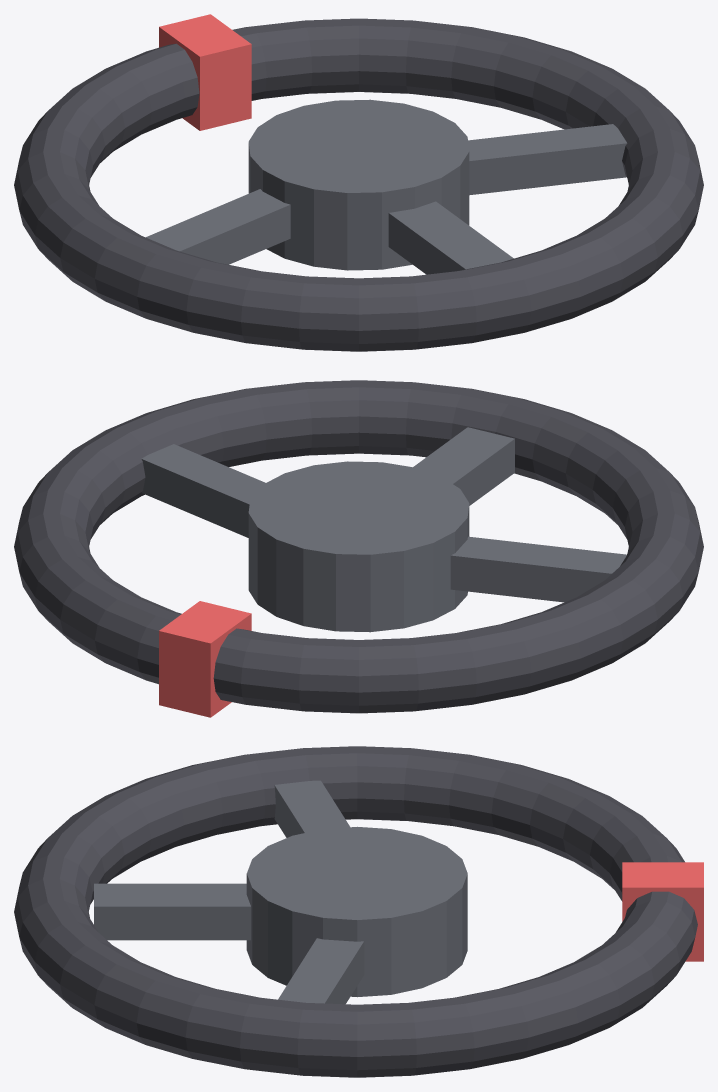
File: steering_wheel.glb
3 views of the same model, one above another, from view 1: azimuth 30°, elevation 25°; view 2: azimuth 150°, elevation 25°; view 3: azimuth 270°, elevation 25° (orthographic).
Visible parts, largest first — view 1: WheelRim, CenterHub, SpokeRight, TopMarker, SpokeLeft, SpokeBottom; view 2: WheelRim, CenterHub, SpokeLeft, TopMarker, SpokeRight, SpokeBottom; view 3: WheelRim, CenterHub, SpokeBottom, SpokeRight, TopMarker, SpokeLeft.
Part boxes in pixels (x1=…): WheelRim: x1=14, y1=18, x2=703, y2=351; CenterHub: x1=248, y1=99, x2=469, y2=270; SpokeRight: x1=468, y1=124, x2=627, y2=195; TopMarker: x1=159, y1=14, x2=251, y2=130; SpokeLeft: x1=146, y1=189, x2=290, y2=264; SpokeBottom: x1=388, y1=201, x2=513, y2=274; WheelRim: x1=14, y1=380, x2=703, y2=713; CenterHub: x1=248, y1=461, x2=469, y2=632; SpokeLeft: x1=450, y1=536, x2=626, y2=602; TopMarker: x1=159, y1=601, x2=251, y2=717; SpokeRight: x1=141, y1=444, x2=265, y2=537; SpokeBottom: x1=413, y1=427, x2=514, y2=505; WheelRim: x1=14, y1=746, x2=697, y2=1077; CenterHub: x1=246, y1=826, x2=467, y2=997; SpokeBottom: x1=94, y1=883, x2=250, y2=940; SpokeRight: x1=278, y1=938, x2=364, y2=1004; TopMarker: x1=622, y1=862, x2=703, y2=961; SpokeLeft: x1=274, y1=780, x2=349, y2=837.
Bounding box in the file's own units: 0.404 × 0.05 × 0.406.
